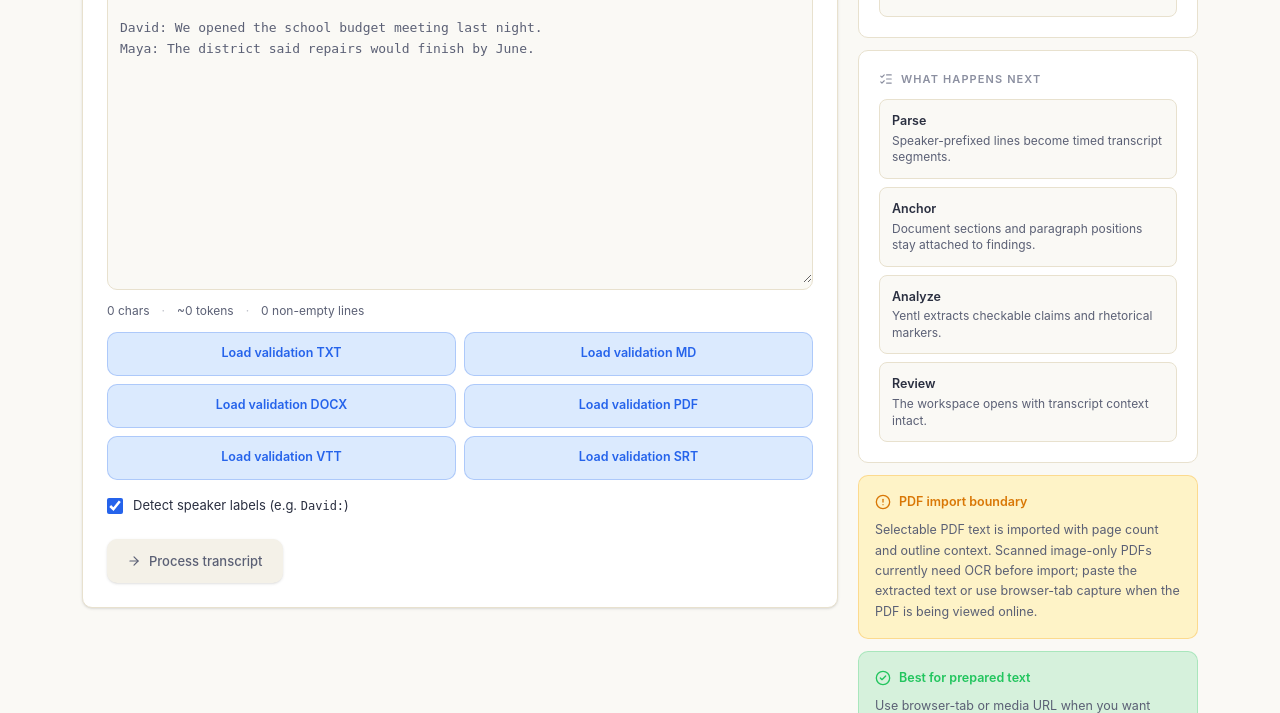
TextIngestPane — file drop › loads the validation TXT fixture through the file reader path
(page scrolled)
Click the button "Load validation TXT" at (282, 354), box x1=107 y1=332 x2=456 y2=376
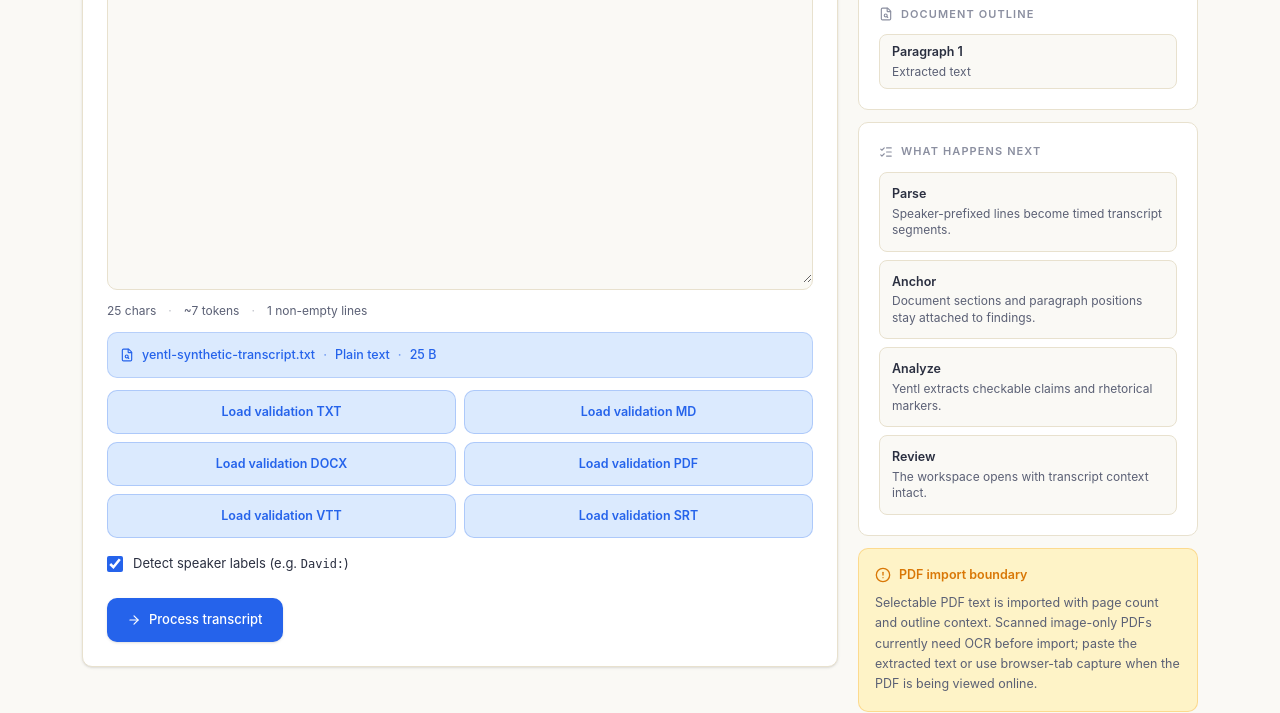
Check: the text "yentl-synthetic-transcript.txt" is shown, box x1=142 y1=345 x2=315 y2=365
Check: the button "Process transcript" is enabled, box x1=107 y1=598 x2=282 y2=642
